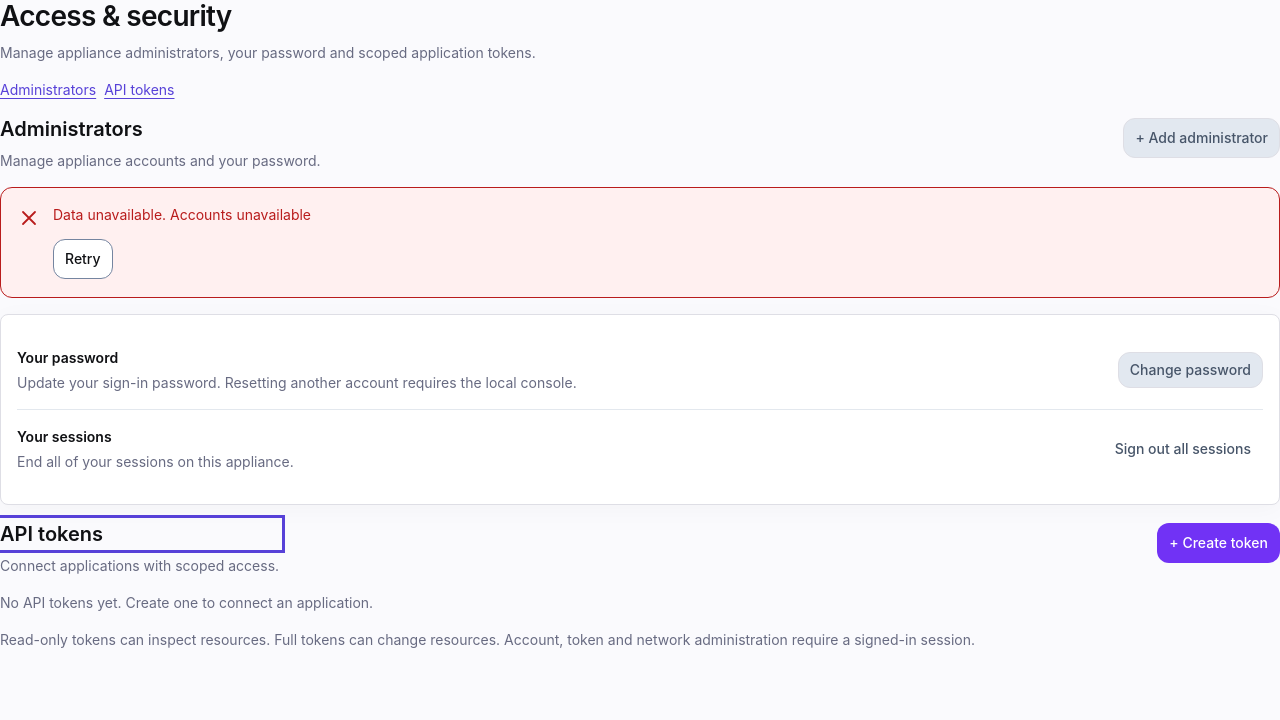
one header, requested token focus and independent account error
Check: the text "Accounts unavailable" is shown, box [170,206,311,223]
Click the button "+ Create token" at coordinates (1219, 543), box [1157,521,1279,565]
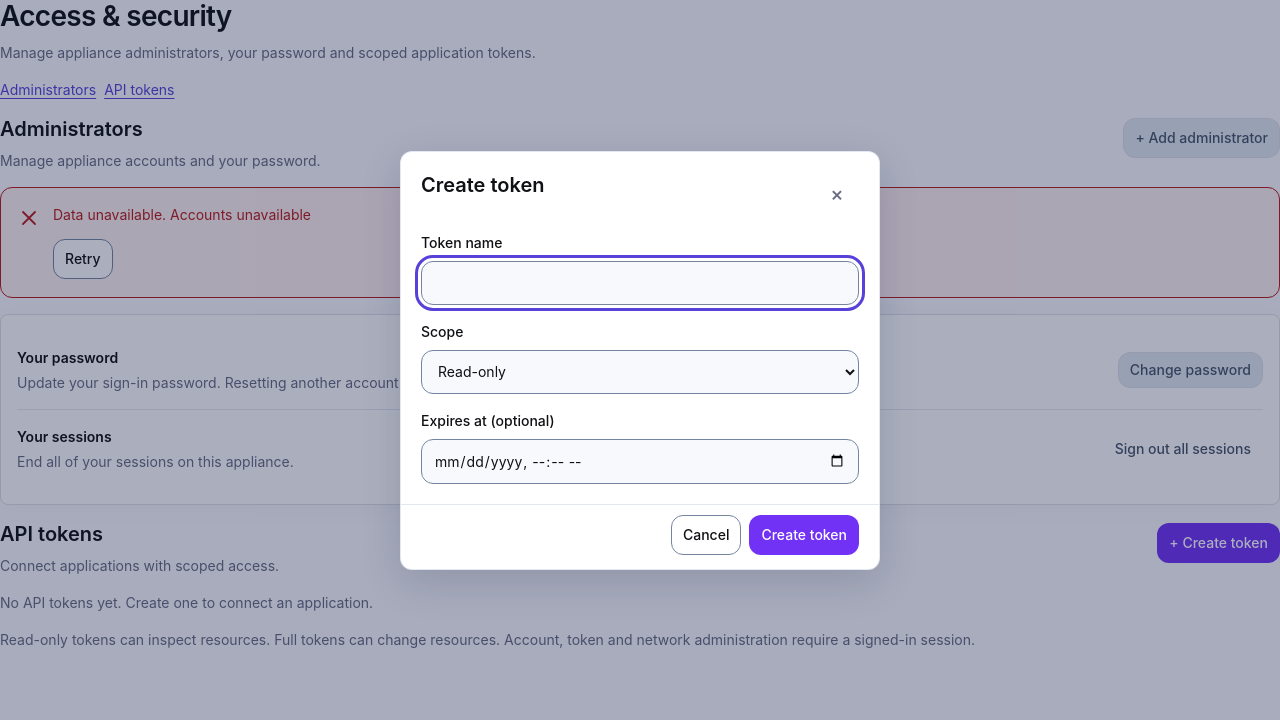
Check: the dialog "Create token" is shown, box [400,150,880,570]
